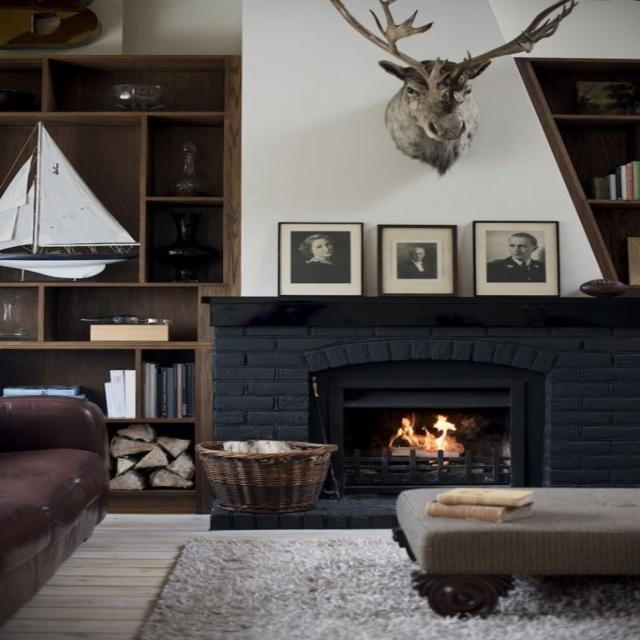Fire: (202, 297, 638, 532), (390, 412, 456, 460)
